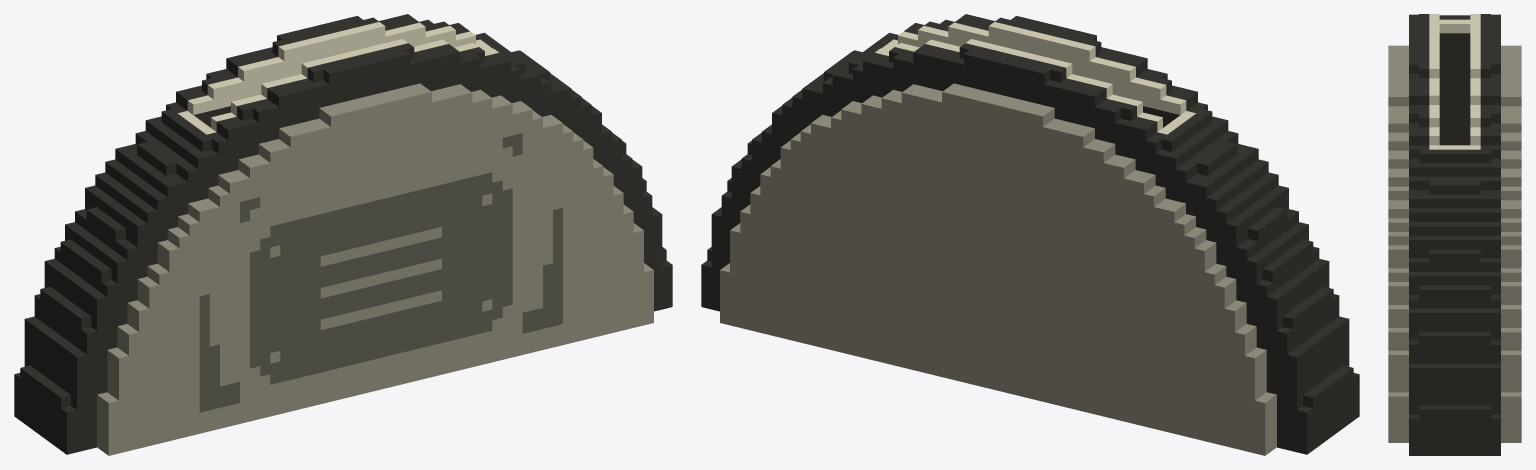
Rendered from factory4.2-27.obj.
3 views of the same model, side by side, from view 1: azimuth 30°, elevation 25°; view 2: azimuth 150°, elevation 25°; view 3: azimuth 270°, elevation 25° (orthographic). The views are drawn at different scales.
Size of the model in its own units: 6 by 3 by 1.3.
Materials: 1 (1 with a texture image).
